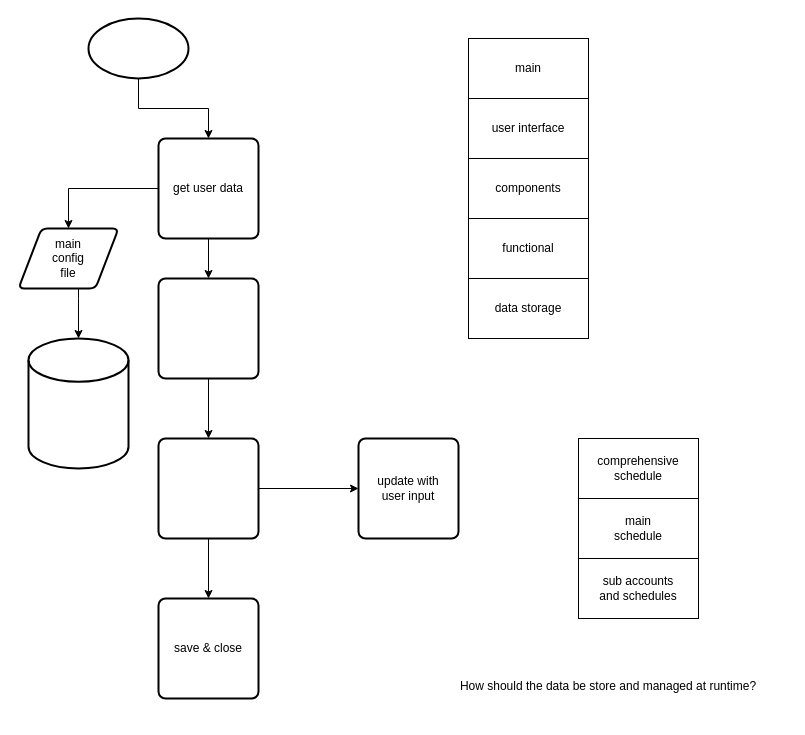
Image size: 805x735. Some labels were removed from this diagram. Here are the shapes that lost their labels. From the top down, the centre of each, then its label:
At pixel 138 48: "start".
At pixel 208 328: "draw main user interface".
At pixel 78 403: "sqlite db logs accounts".
At pixel 208 488: "supplement with user data".
